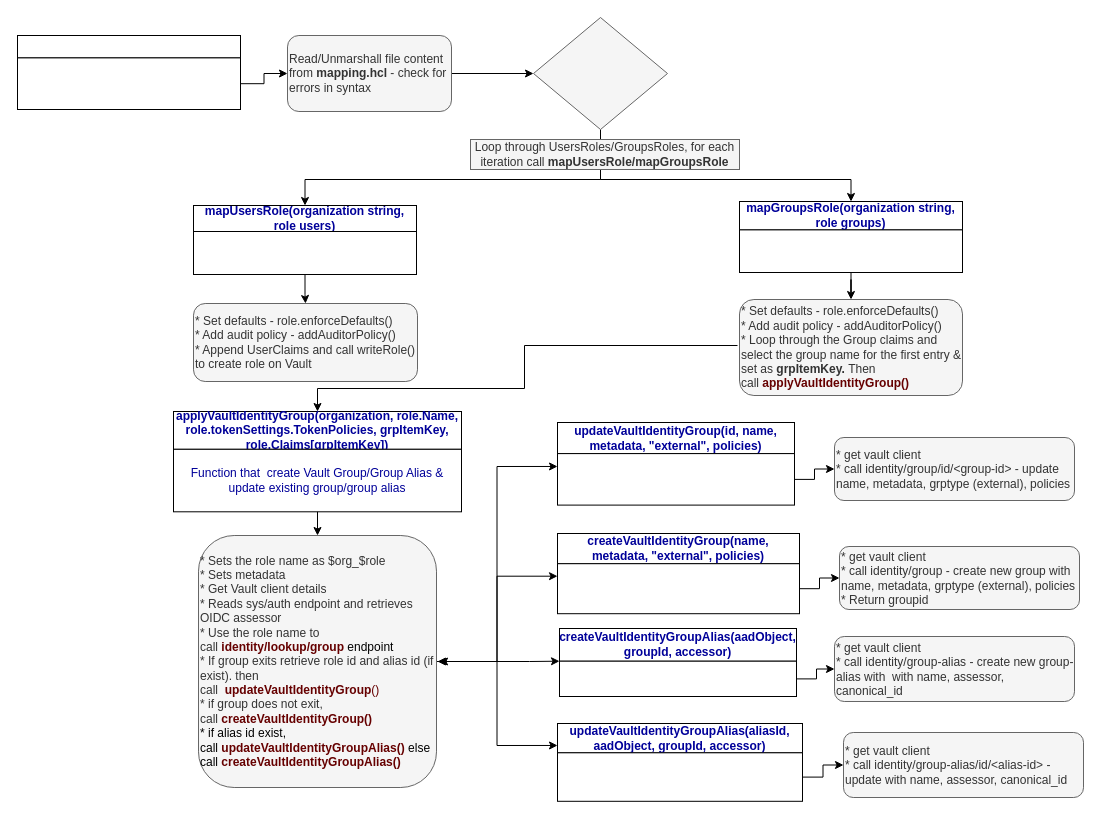
The diagram is 1101 pixels wide and 838 high, and some of its shapes have lost their labels. Each missing label, with the centre of its shape:
Function that maps and creates Roles with Groupsclaim: pixel 850 250
Function that maps and creates Roles with Userclaim: pixel 304 252
Function to create a new external group: pixel 678 588
Function to create new Group Alias: pixel 677 678
Function to update existing external group: pixel 675 479
Function to update existing group alias: pixel 679 776
Is claim User or Role based?: pixel 600 73
Main function to receive OIDC roles configuration and create in Vault: pixel 128 83
Push(org, backendConfigDir, check): pixel 128 46
